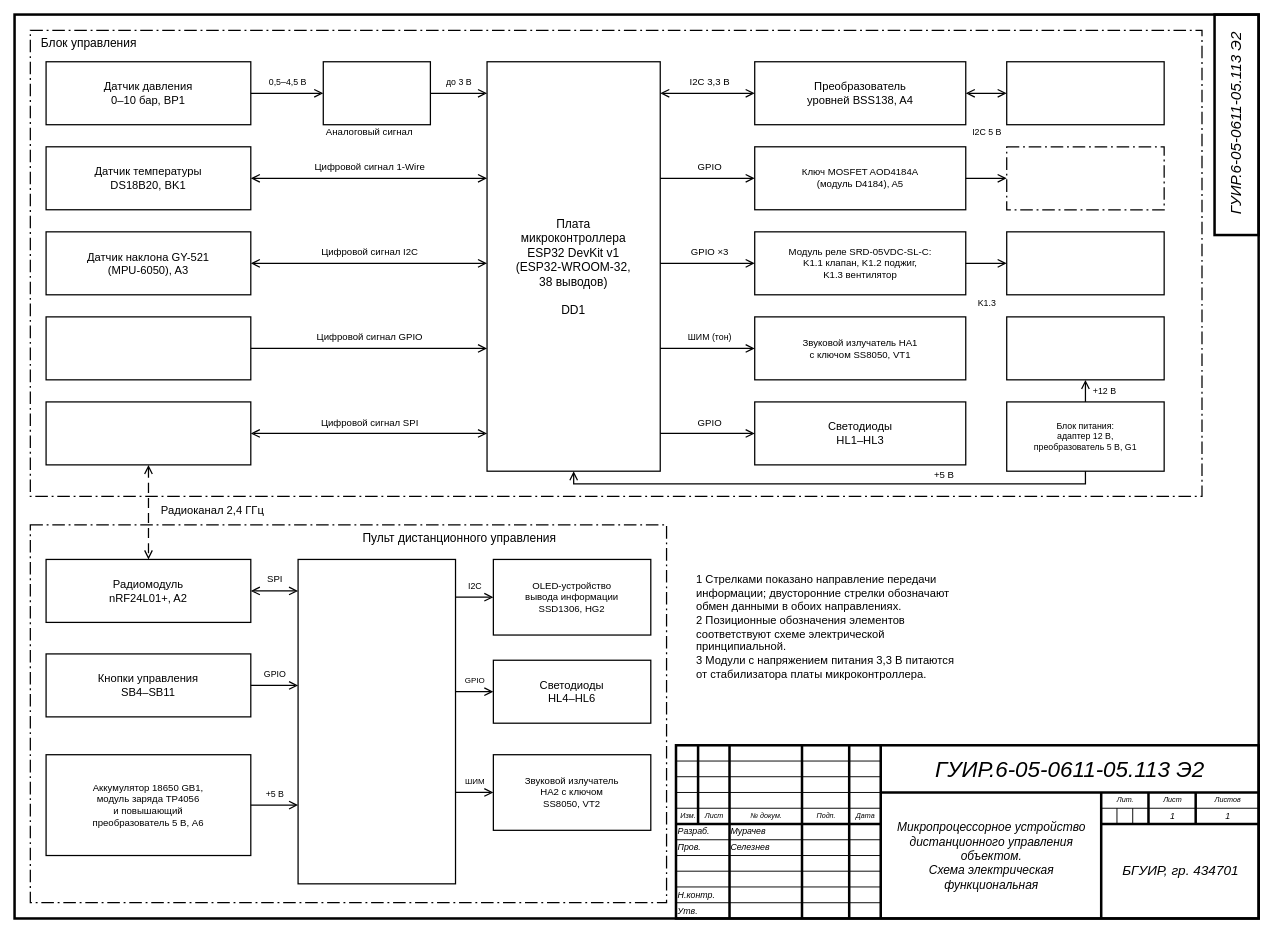
The diagram is 1275 pixels wide and 935 high, and some of its shapes have lost their labels. The shapes that lost their labels are listed below. From the top down, each one's box as (x1, y1, x2, y2) in pixels, then its label:
(322, 61, 431, 125): Делитель напряжения R1, R2
(1006, 61, 1164, 125): LCD2004 с PCF8574, HG1
(1006, 146, 1164, 210): Электролизер (объект управления)
(1006, 231, 1164, 295): Вентилятор выводной 12 В, M1
(45, 316, 251, 380): Кнопки управления SB1–SB3
(1006, 316, 1164, 380): Вентилятор корпусный 12 В, M2
(45, 401, 251, 465): Радиомодуль nRF24L01+ с усилителем, A1
(297, 558, 456, 884): Плата микроконтроллера ESP32 DevKit v1 (ESP32-WROOM-32, 38 выводов) DD2
